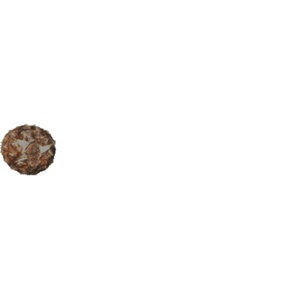abacaxi: (1, 118, 54, 180)
